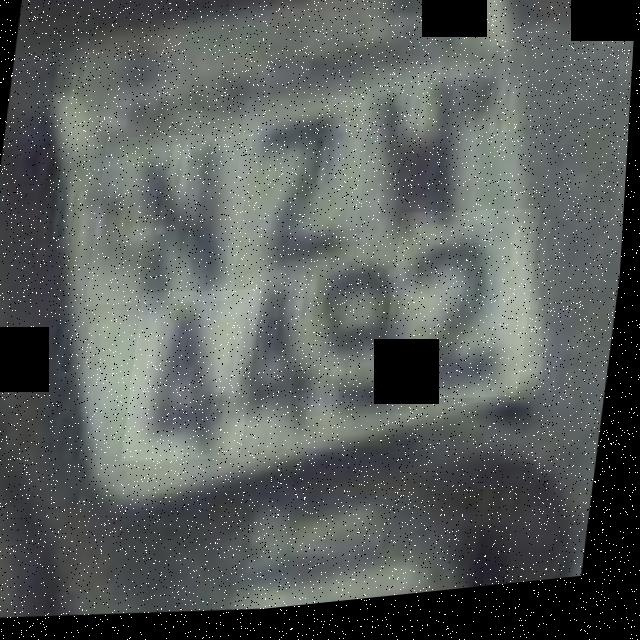2: (383, 211, 545, 419)
4: (207, 260, 353, 464), (126, 286, 266, 473)
9: (294, 239, 441, 432)
N: (89, 128, 255, 318)
W: (346, 62, 494, 255)
Z: (228, 95, 375, 280)
